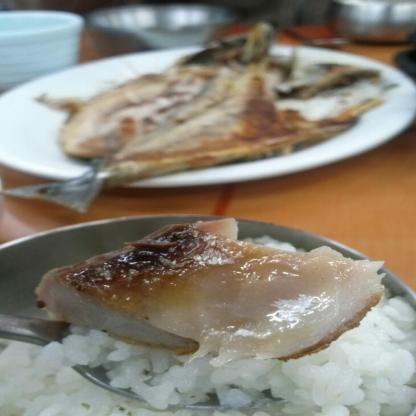Peixe: (55, 25, 387, 199), (48, 213, 409, 367)
